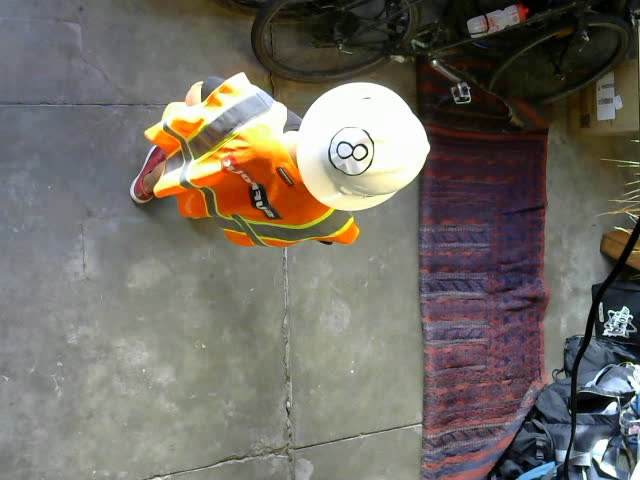eight: (328, 129, 372, 177)
